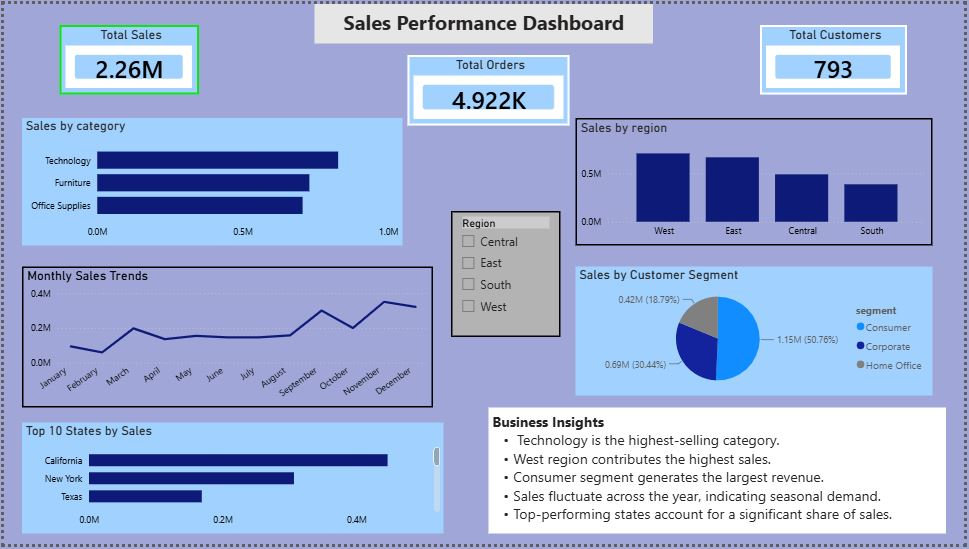

What the dashboard file says about the page in this screenshot:
{"tool":"powerbi","page":{"name":"Page 1","canvas":[1280,720],"ordinal":0},"visuals":[{"type":"cardVisual","title":"Total Sales","fields":{"Data":["Sum(Superstore Dataset Cleaned Dataset.sales)"]},"box":[74.3,27.1,185.7,92.9],"z":0},{"type":"cardVisual","title":"Total Orders","fields":{"Data":["Count(Superstore Dataset Cleaned Dataset.order_id)"]},"box":[538,68,216,94],"z":1000},{"type":"cardVisual","title":"Total Customers","fields":{"Data":["Count(Superstore Dataset Cleaned Dataset.customer_id)"]},"box":[1007.1,27.1,195.7,92.9],"z":2000},{"type":"clusteredBarChart","title":"Sales by category","fields":{"Category":["Superstore Dataset Cleaned Dataset.category"],"Y":["Sum(Superstore Dataset Cleaned Dataset.sales)"]},"box":[24.3,152.9,507.1,170],"z":3000},{"type":"clusteredColumnChart","title":"Sales by region","fields":{"Category":["Superstore Dataset Cleaned Dataset.region"],"Y":["Sum(Superstore Dataset Cleaned Dataset.sales)"]},"box":[762,152,476,170],"z":4000},{"type":"lineChart","title":"Monthly Sales Trends","fields":{"Category":["Superstore Dataset Cleaned Dataset.order_date.Variation.Date Hierarchy.Month"],"Y":["Sum(Superstore Dataset Cleaned Dataset.sales)"]},"box":[24,350,548,188],"z":5000},{"type":"pieChart","title":"Sales by Customer Segment","fields":{"Category":["Superstore Dataset Cleaned Dataset.segment"],"Y":["Sum(Superstore Dataset Cleaned Dataset.sales)"]},"box":[762,350,476,172],"z":6000},{"type":"clusteredBarChart","title":"Top 10 States by Sales","fields":{"Category":["Superstore Dataset Cleaned Dataset.state"],"Y":["Sum(Superstore Dataset Cleaned Dataset.sales)"]},"box":[24,558,562,148],"z":7000},{"type":"slicer","fields":{"Values":["Superstore Dataset Cleaned Dataset.region"]},"box":[596,276,146,168],"z":8000},{"type":"textbox","box":[413.9,0,451.7,52.9],"z":9000},{"type":"textbox","box":[646,538,610,168],"z":10000}]}

Visuals, with their boxes in screenshot pixels (x1, y1, x2, y2), scaled from the page's 1280x720 canvas onto the 969x549 screenshot:
"Total Sales" cardVisual: (x1=56, y1=21, x2=197, y2=92)
"Total Orders" cardVisual: (x1=407, y1=52, x2=571, y2=124)
"Total Customers" cardVisual: (x1=762, y1=21, x2=911, y2=92)
"Sales by category" clusteredBarChart: (x1=18, y1=117, x2=402, y2=246)
"Sales by region" clusteredColumnChart: (x1=577, y1=116, x2=937, y2=246)
"Monthly Sales Trends" lineChart: (x1=18, y1=267, x2=433, y2=410)
"Sales by Customer Segment" pieChart: (x1=577, y1=267, x2=937, y2=398)
"Top 10 States by Sales" clusteredBarChart: (x1=18, y1=425, x2=444, y2=538)
slicer - Superstore Dataset Cleaned Dataset.region: (x1=451, y1=210, x2=562, y2=339)
textbox: (x1=313, y1=0, x2=655, y2=40)
textbox: (x1=489, y1=410, x2=951, y2=538)
